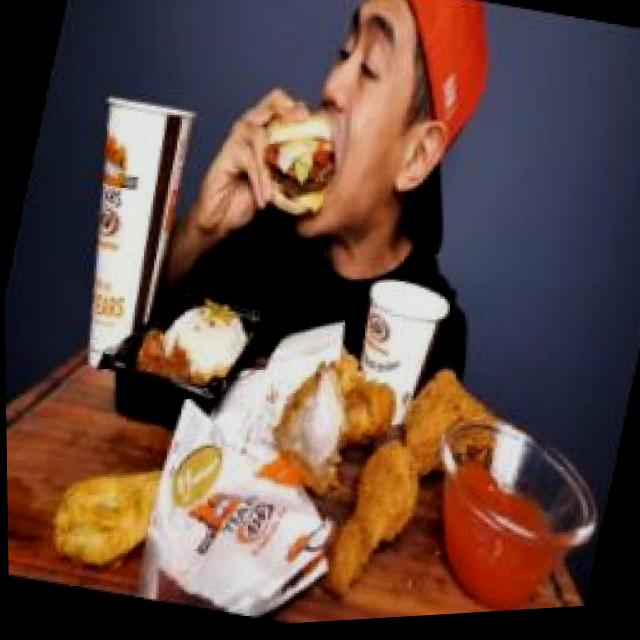AW cola: (41, 68, 213, 396)
black pepper rice bowl: (120, 268, 270, 425)
fried chicken: (237, 334, 520, 622)
mozza burger: (241, 89, 356, 247)
perkedel: (28, 424, 170, 599)
